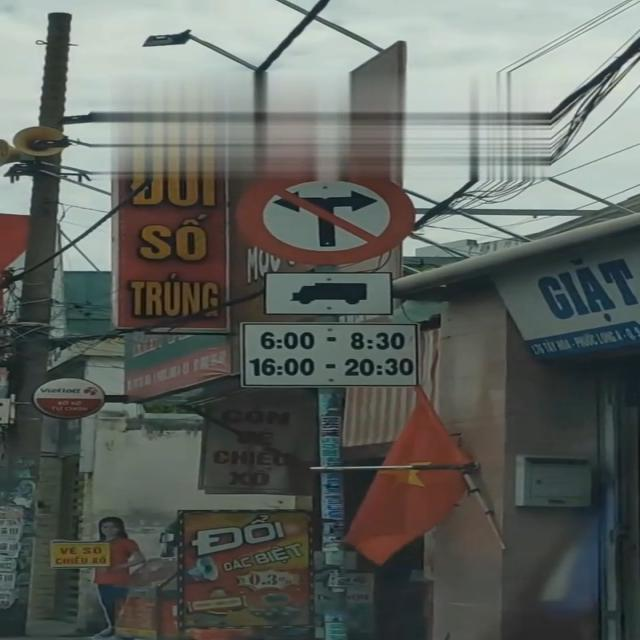137-cam-re-trai-va-re-phai: (234, 167, 412, 266)
